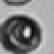correct: (1, 13, 45, 53)
